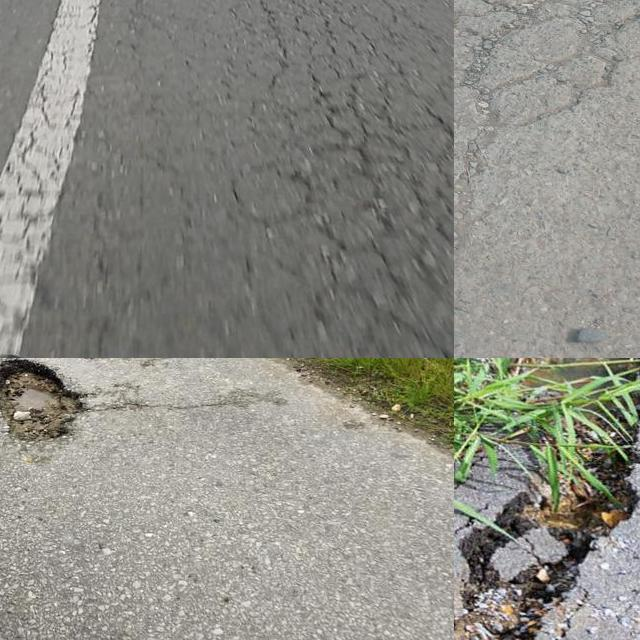Lubang: (0, 362, 85, 450)
Pinggir: (454, 358, 640, 640)
Retak Buaya: (217, 0, 454, 358)
